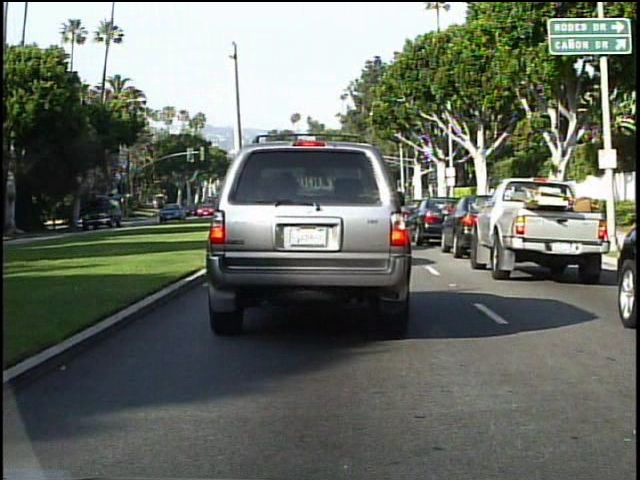person: (80, 206, 93, 227)
